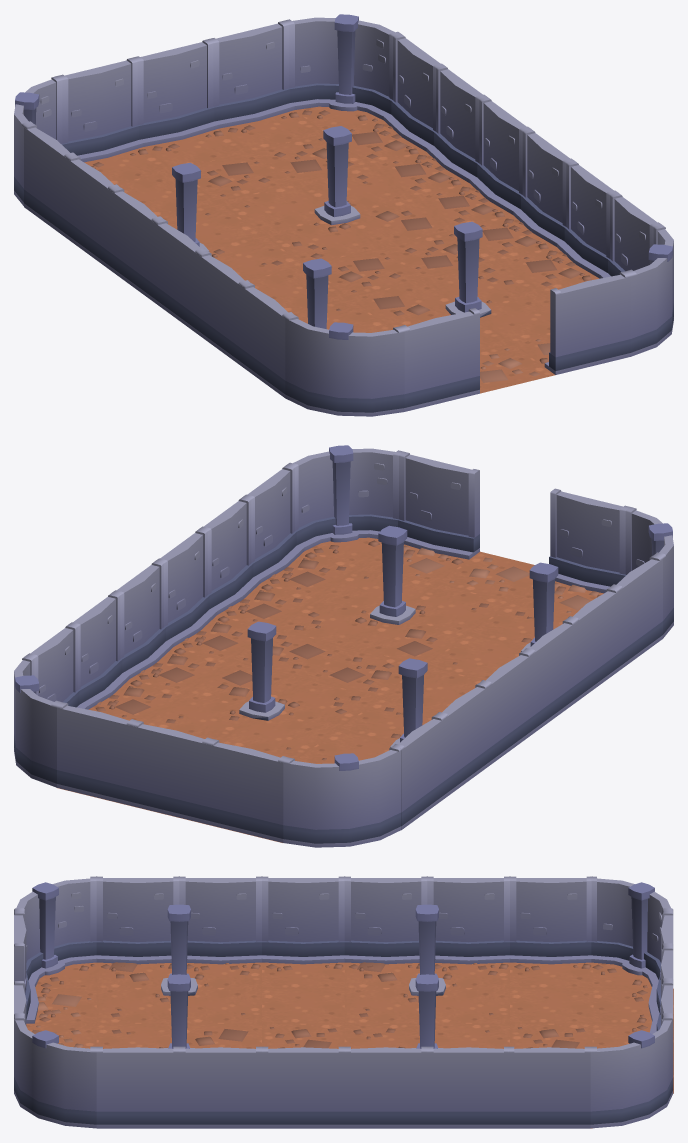
File: long_room_1_opening.glb
3 renders of one model, top to bottom at view 1: azimuth 30°, elevation 25°; view 2: azimuth 150°, elevation 25°; view 3: azimuth 270°, elevation 25°, orthographic. The views are drawn at different scales.
Parts seen in each view (by area): view 1: template-floor-big.003, template-corner.007, template-floor-big, template-corner.003, template-wall.009, template-wall.011, template-wall.007, template-wall.008, template-wall.006, template-floor-big.002, template-wall.002, template-wall.019 (+29 smaller); view 2: template-floor-big, template-floor-big.003, template-corner.001, template-corner.005, template-wall.007, template-wall.006, template-wall.009, template-wall.008, template-wall.011, template-floor-big.001, template-floor-big.002, template-wall.001 (+24 smaller); view 3: template-floor-big.001, template-floor-big.002, template-corner.003, template-corner.005, template-wall.003, template-wall.016, template-corner.007, template-corner.001, template-wall, template-wall.019, template-wall.014, template-wall.002 (+23 smaller).
Boxes of the visible parts, box(x1,y1,x2,y2) form: template-floor-big.003: box(219, 126, 453, 263); template-corner.007: box(284, 14, 400, 130); template-floor-big: box(349, 221, 550, 350); template-corner.003: box(285, 314, 404, 416); template-wall.009: box(133, 39, 223, 151); template-wall.011: box(209, 20, 299, 132); template-wall.007: box(539, 271, 630, 374); template-wall.008: box(58, 57, 148, 168); template-wall.006: box(400, 308, 479, 411); template-floor-big.002: box(161, 162, 302, 280); template-wall.002: box(502, 129, 574, 249); template-wall.019: box(459, 97, 530, 217); template-floor-big: box(276, 525, 511, 663); template-floor-big.003: box(144, 621, 380, 760); template-corner.001: box(287, 445, 403, 564); template-corner.005: box(283, 745, 402, 847); template-wall.007: box(398, 451, 479, 564); template-wall.006: box(549, 488, 629, 597); template-wall.009: box(132, 720, 212, 824); template-wall.008: box(208, 739, 287, 842); template-wall.011: box(57, 702, 136, 805); template-floor-big.001: box(427, 562, 569, 680); template-floor-big.002: box(295, 658, 438, 763); template-wall.001: box(199, 497, 273, 615); template-floor-big.001: box(96, 904, 261, 1023); template-floor-big.002: box(344, 904, 509, 1023); template-corner.003: box(14, 876, 96, 988); template-corner.005: box(590, 876, 673, 988); template-wall.003: box(262, 876, 344, 971); template-wall.016: box(510, 876, 592, 971); template-corner.007: box(590, 1015, 673, 1128); template-corner.001: box(14, 1015, 96, 1128); template-wall: box(96, 1046, 179, 1128); template-wall.019: box(344, 1046, 427, 1128); template-wall.014: box(344, 876, 427, 971); template-wall.002: box(262, 1046, 344, 1128).
Size of the model in its own units: 20 by 4.23 by 31.93.
Materials: 11 (11 with a texture image).
